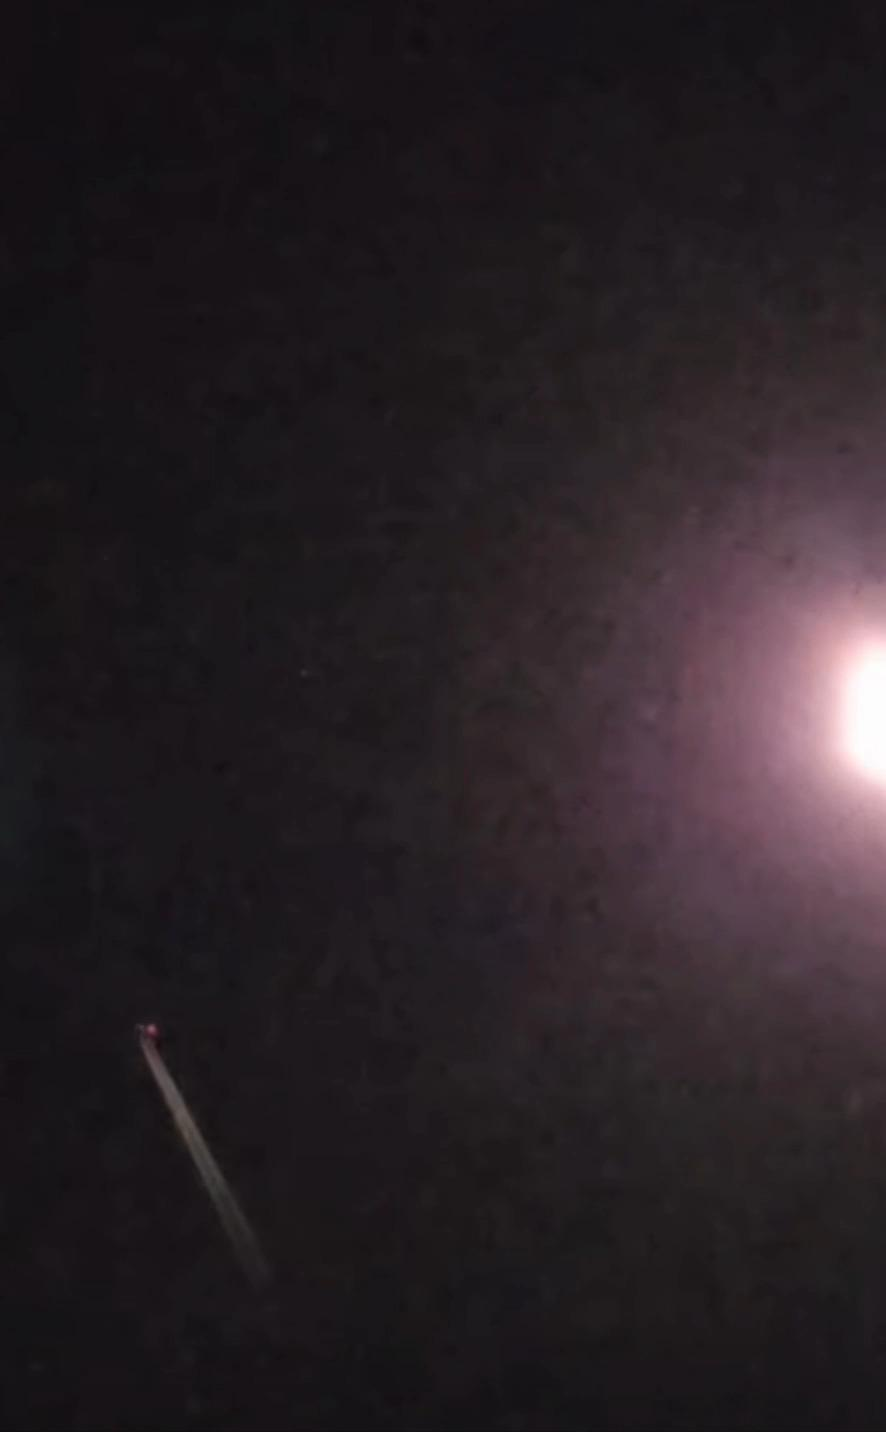Plane: (94, 974, 217, 1143)
